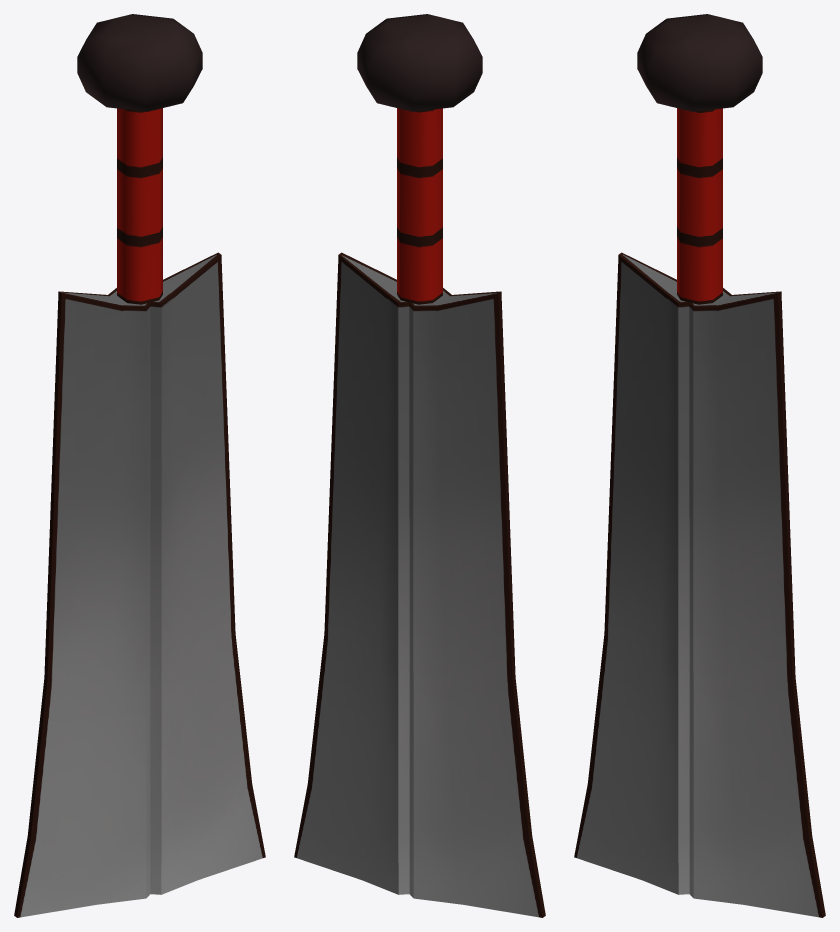
File: lvl2_weapon.fbx
3 views of the same model, side by side, from view 1: azimuth 30°, elevation 25°; view 2: azimuth 150°, elevation 25°; view 3: azimuth 330°, elevation 25° (orthographic).
Visible parts, largest first — view 1: weapon_02; view 2: weapon_02; view 3: weapon_02.
Boxes of the visible parts, x1=… form: weapon_02: x1=14, y1=14, x2=265, y2=917; weapon_02: x1=294, y1=14, x2=545, y2=917; weapon_02: x1=574, y1=14, x2=825, y2=917.
Bounding box in the file's own units: 27.06 × 89.1 × 10.68.
